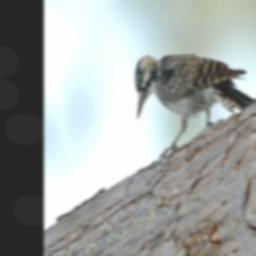Woodpecker: (124, 0, 256, 183)
